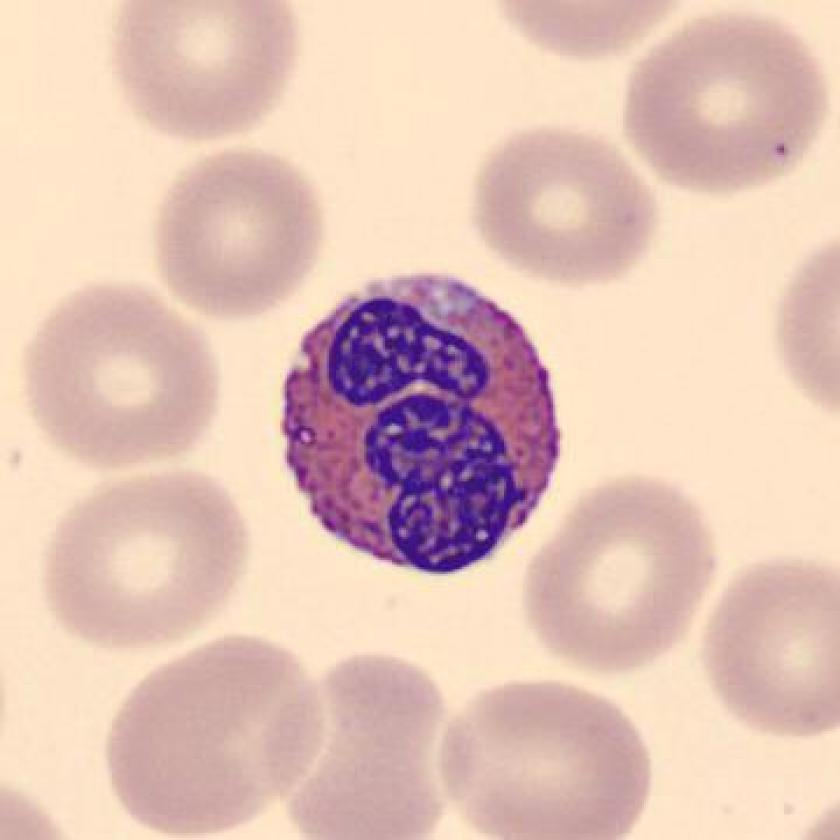eosinophil: (272, 254, 580, 594)
